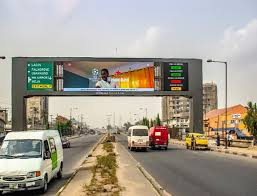Billboard: (12, 56, 202, 130)
